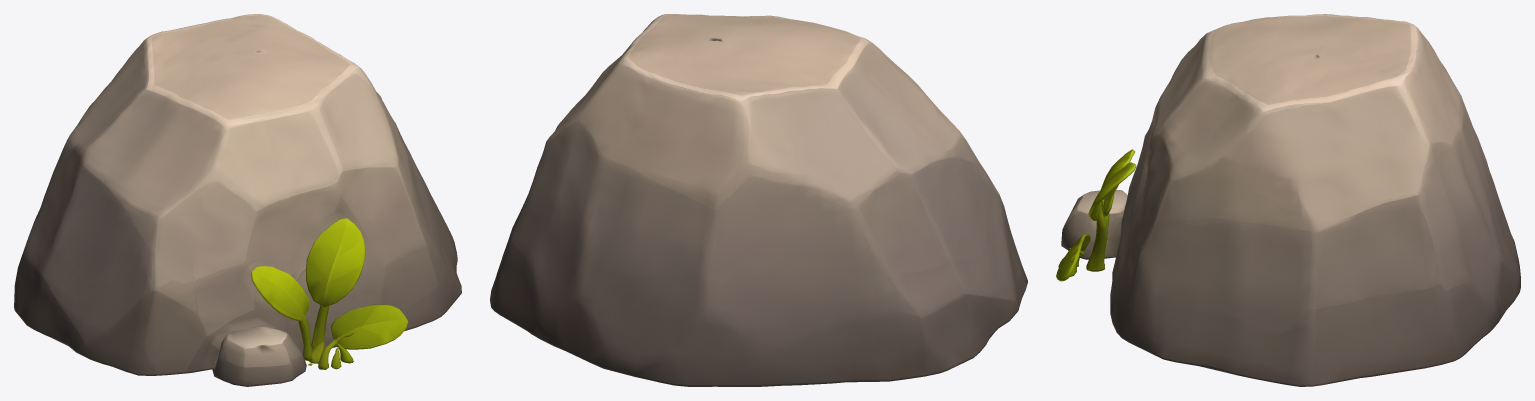
Rendered from medium_rock.glb.
3 renders of one model, left to right at view 1: azimuth 30°, elevation 25°; view 2: azimuth 150°, elevation 25°; view 3: azimuth 270°, elevation 25°, orthographic. The views are drawn at different scales.
Visible parts, largest first — view 1: Mesh_0.003; view 2: Mesh_0.003; view 3: Mesh_0.003.
Boxes of the visible parts, left/top/right/bottom form: Mesh_0.003: left=14, top=14, right=461, bottom=386; Mesh_0.003: left=490, top=14, right=1027, bottom=386; Mesh_0.003: left=1056, top=14, right=1520, bottom=386.
Size of the model in its own units: 0.2324 by 0.12 by 0.2127.
1 material, 1 textured.
